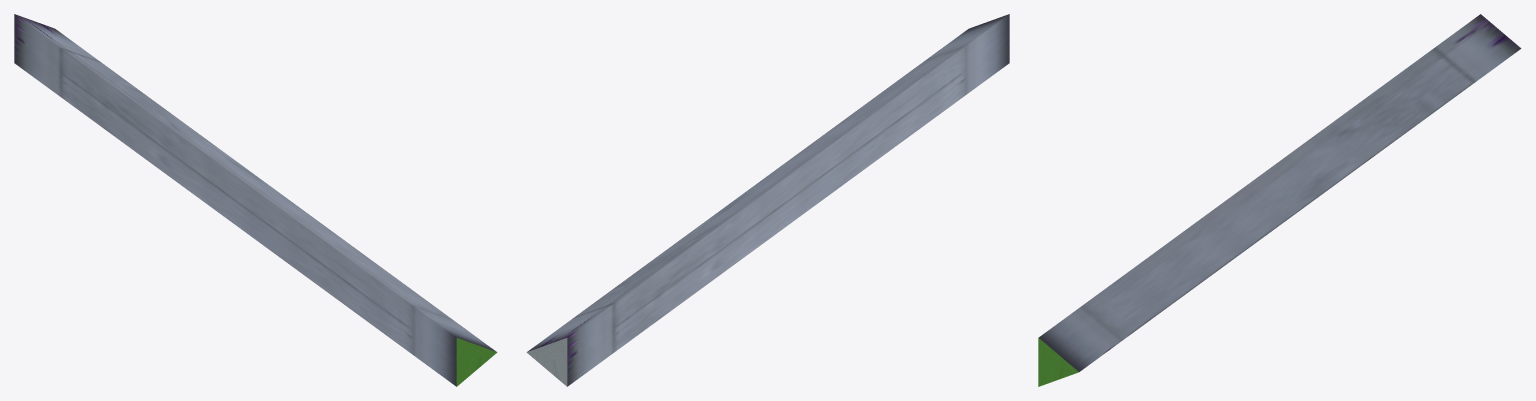
The picture shows the model from 3 angles, left to right: view 1: azimuth 30°, elevation 25°; view 2: azimuth 150°, elevation 25°; view 3: azimuth 330°, elevation 25°; orthographic projection.
Parts seen in each view (by area): view 1: Cylinder01; view 2: Cylinder01; view 3: Cylinder01.
Part boxes in pixels (left/top/right/bottom): Cylinder01: left=14, top=14, right=497, bottom=386; Cylinder01: left=526, top=14, right=1009, bottom=386; Cylinder01: left=1038, top=14, right=1521, bottom=386.
Size of the model in its own units: 59.46 by 68.65 by 1117.
Materials: 3 (3 with a texture image).
